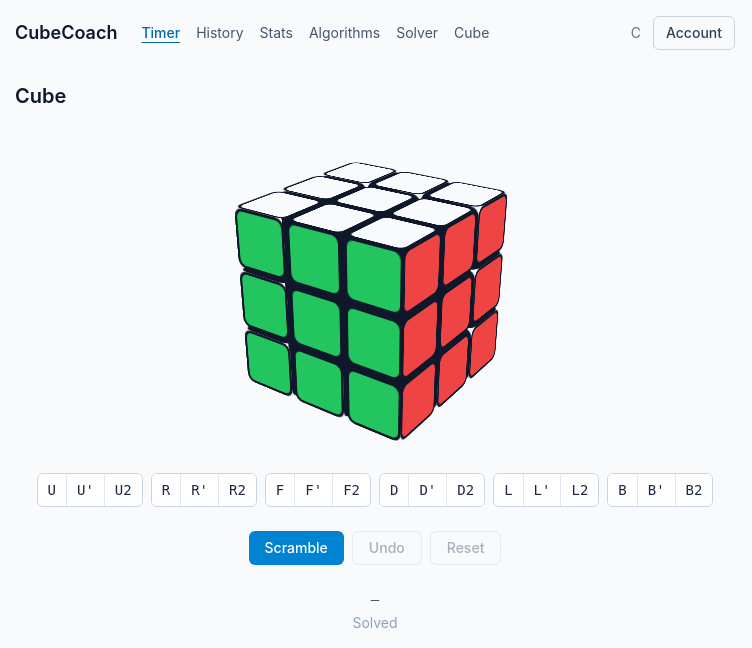
Test case: CubePlayground › undoes the last move
Click the button "R" at [166, 490], box [152,474,181,506]
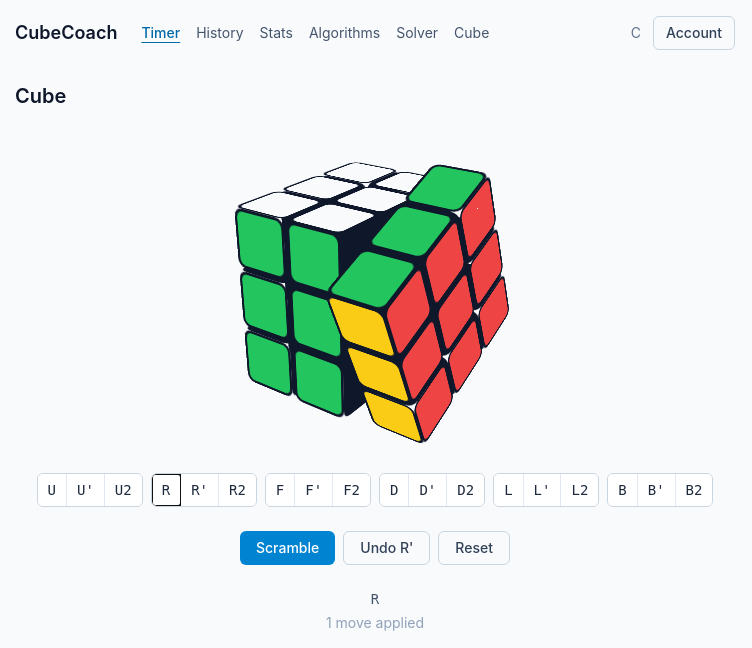
Click the button "Undo R'" at [387, 548], box [343,531,430,565]
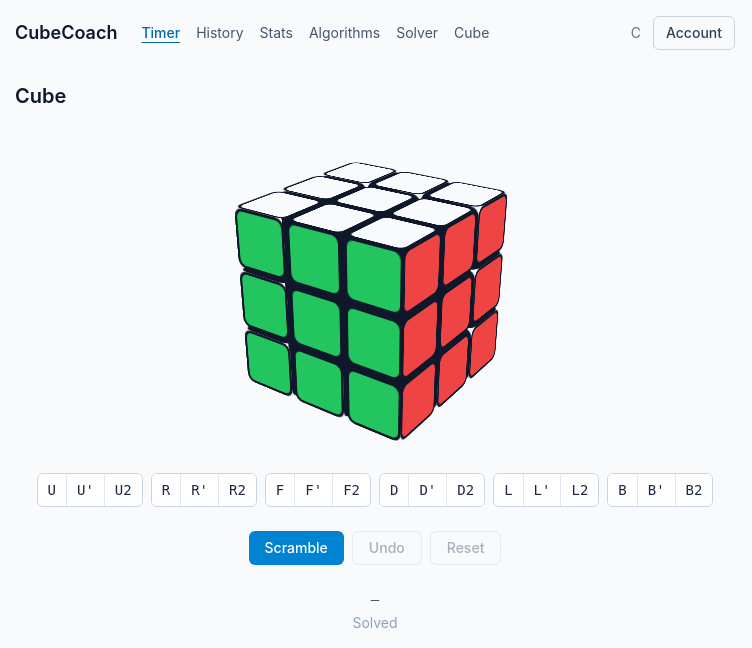
Expected: the text "Solved" is shown, [352,614,398,631]
